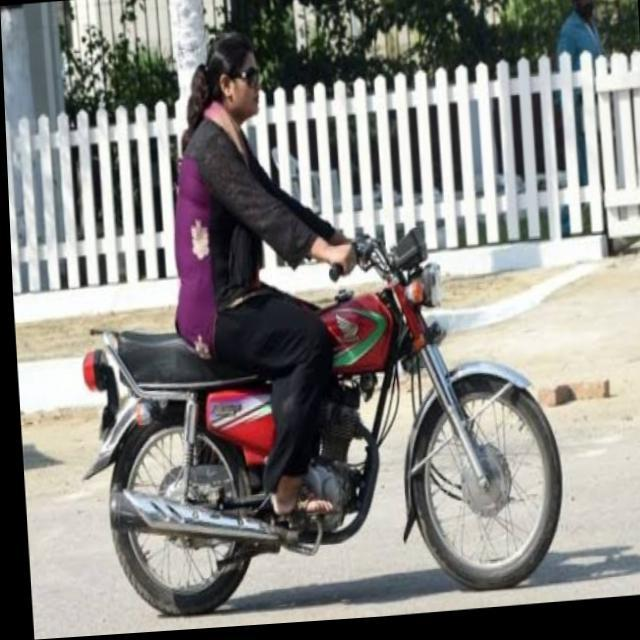Nonhelmet: (188, 23, 270, 122)
